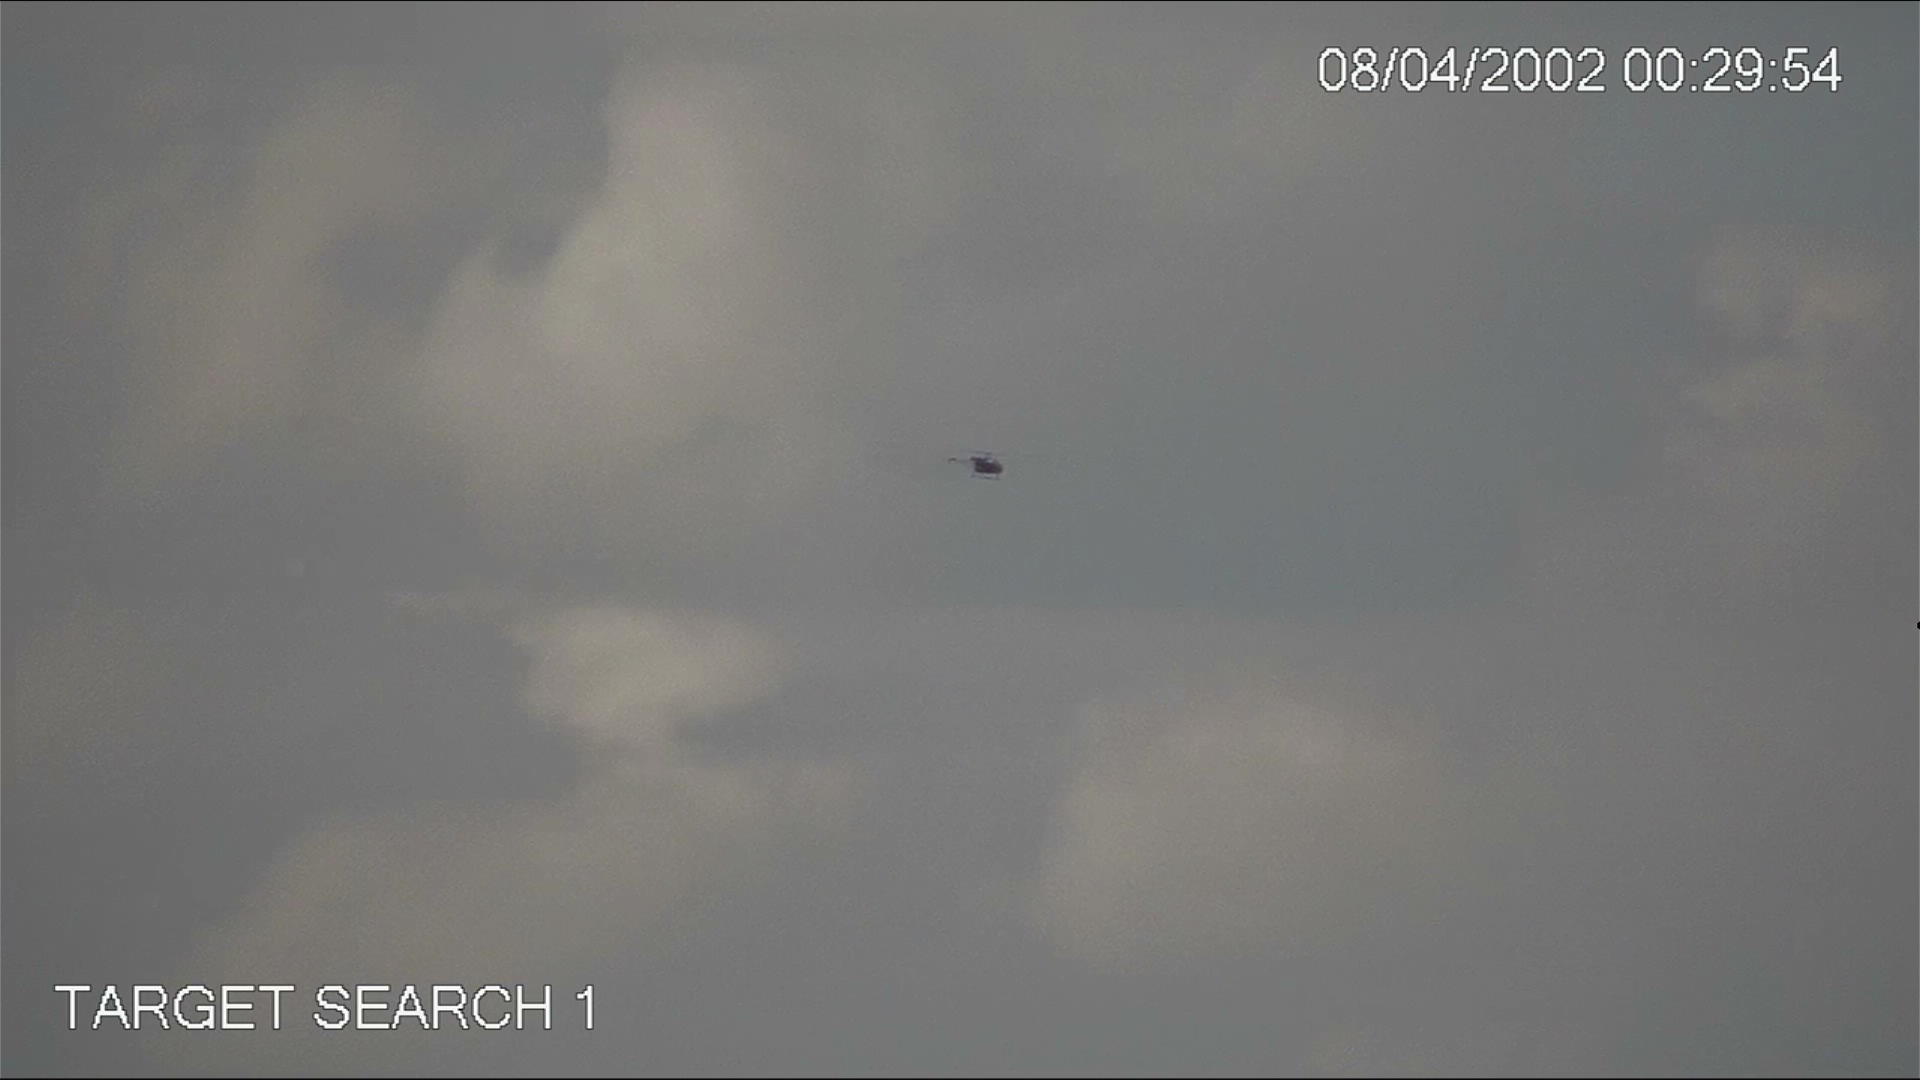SU_30: (945, 446, 1021, 485)
